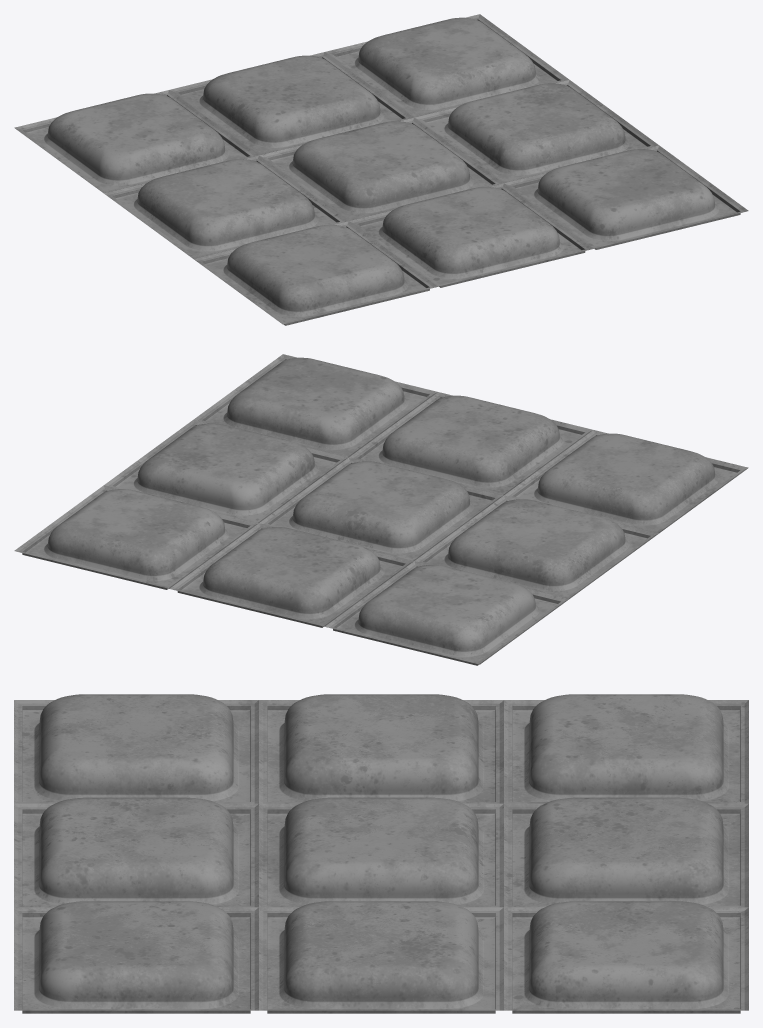
File: SM_Ceiling_16.fbx
The picture shows the model from 3 angles, top to bottom: view 1: azimuth 30°, elevation 25°; view 2: azimuth 150°, elevation 25°; view 3: azimuth 270°, elevation 25°; orthographic projection. The views are drawn at different scales.
Parts seen in each view (by area): view 1: SM_Ceiling_16; view 2: SM_Ceiling_16; view 3: SM_Ceiling_16.
Part boxes in pixels (bbox=[...]): SM_Ceiling_16: bbox=[14, 14, 748, 325]; SM_Ceiling_16: bbox=[14, 354, 748, 665]; SM_Ceiling_16: bbox=[14, 694, 748, 1013].
Bounding box in the file's own units: 300 × 14.2 × 300.
